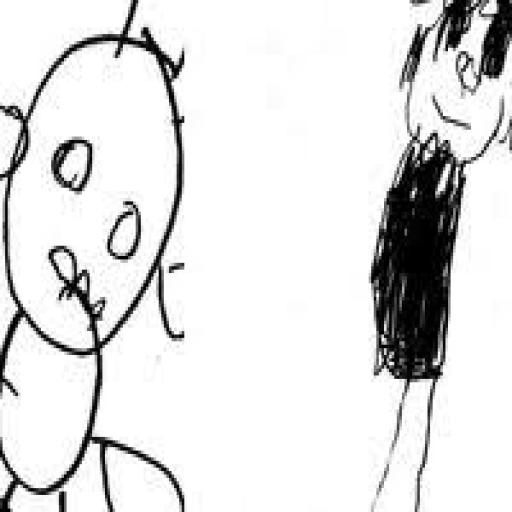person: (0, 0, 221, 512), (353, 0, 512, 512)
